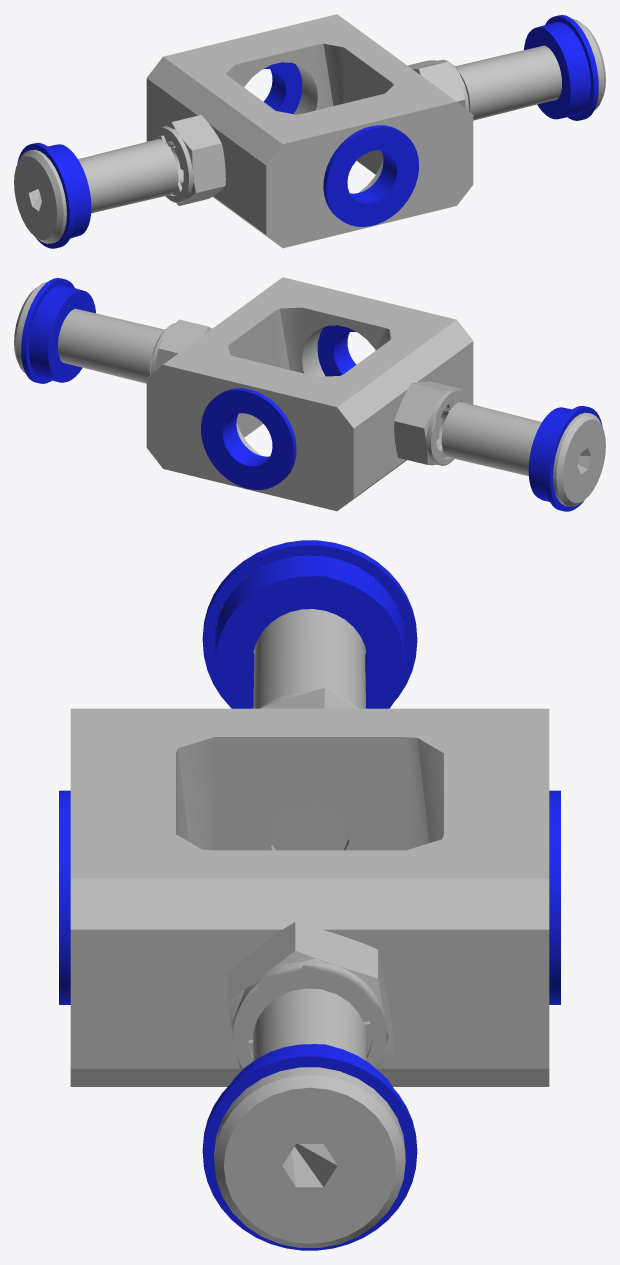
The model's file is r_wrist_center_link.dae.
3 views of the same model, one above another, from view 1: azimuth 30°, elevation 25°; view 2: azimuth 150°, elevation 25°; view 3: azimuth 270°, elevation 25° (orthographic). The views are drawn at different scales.
Visible parts, largest first — view 1: FBXASC227FBXASC130FBXASC189FBXASC227FBXASC131FBXASC170FBXASC (×9); view 2: FBXASC227FBXASC130FBXASC189FBXASC227FBXASC131FBXASC170FBXASC (×9); view 3: FBXASC227FBXASC130FBXASC189FBXASC227FBXASC131FBXASC170FBXASC (×9).
Part boxes in pixels (box(x1,y1,x2,y2)): FBXASC227FBXASC130FBXASC189FBXASC227FBXASC131FBXASC170FBXASC (×9): box(14, 14, 605, 248); FBXASC227FBXASC130FBXASC189FBXASC227FBXASC131FBXASC170FBXASC (×9): box(14, 277, 605, 511); FBXASC227FBXASC130FBXASC189FBXASC227FBXASC131FBXASC170FBXASC (×9): box(59, 540, 560, 1250).
Size of the model in its own units: 0.0662 by 0.0262 by 0.012.
